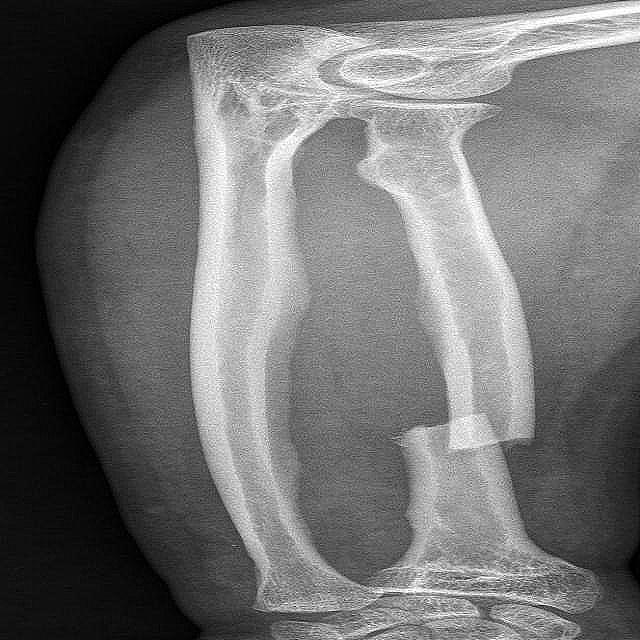bone: (391, 391, 542, 468)
